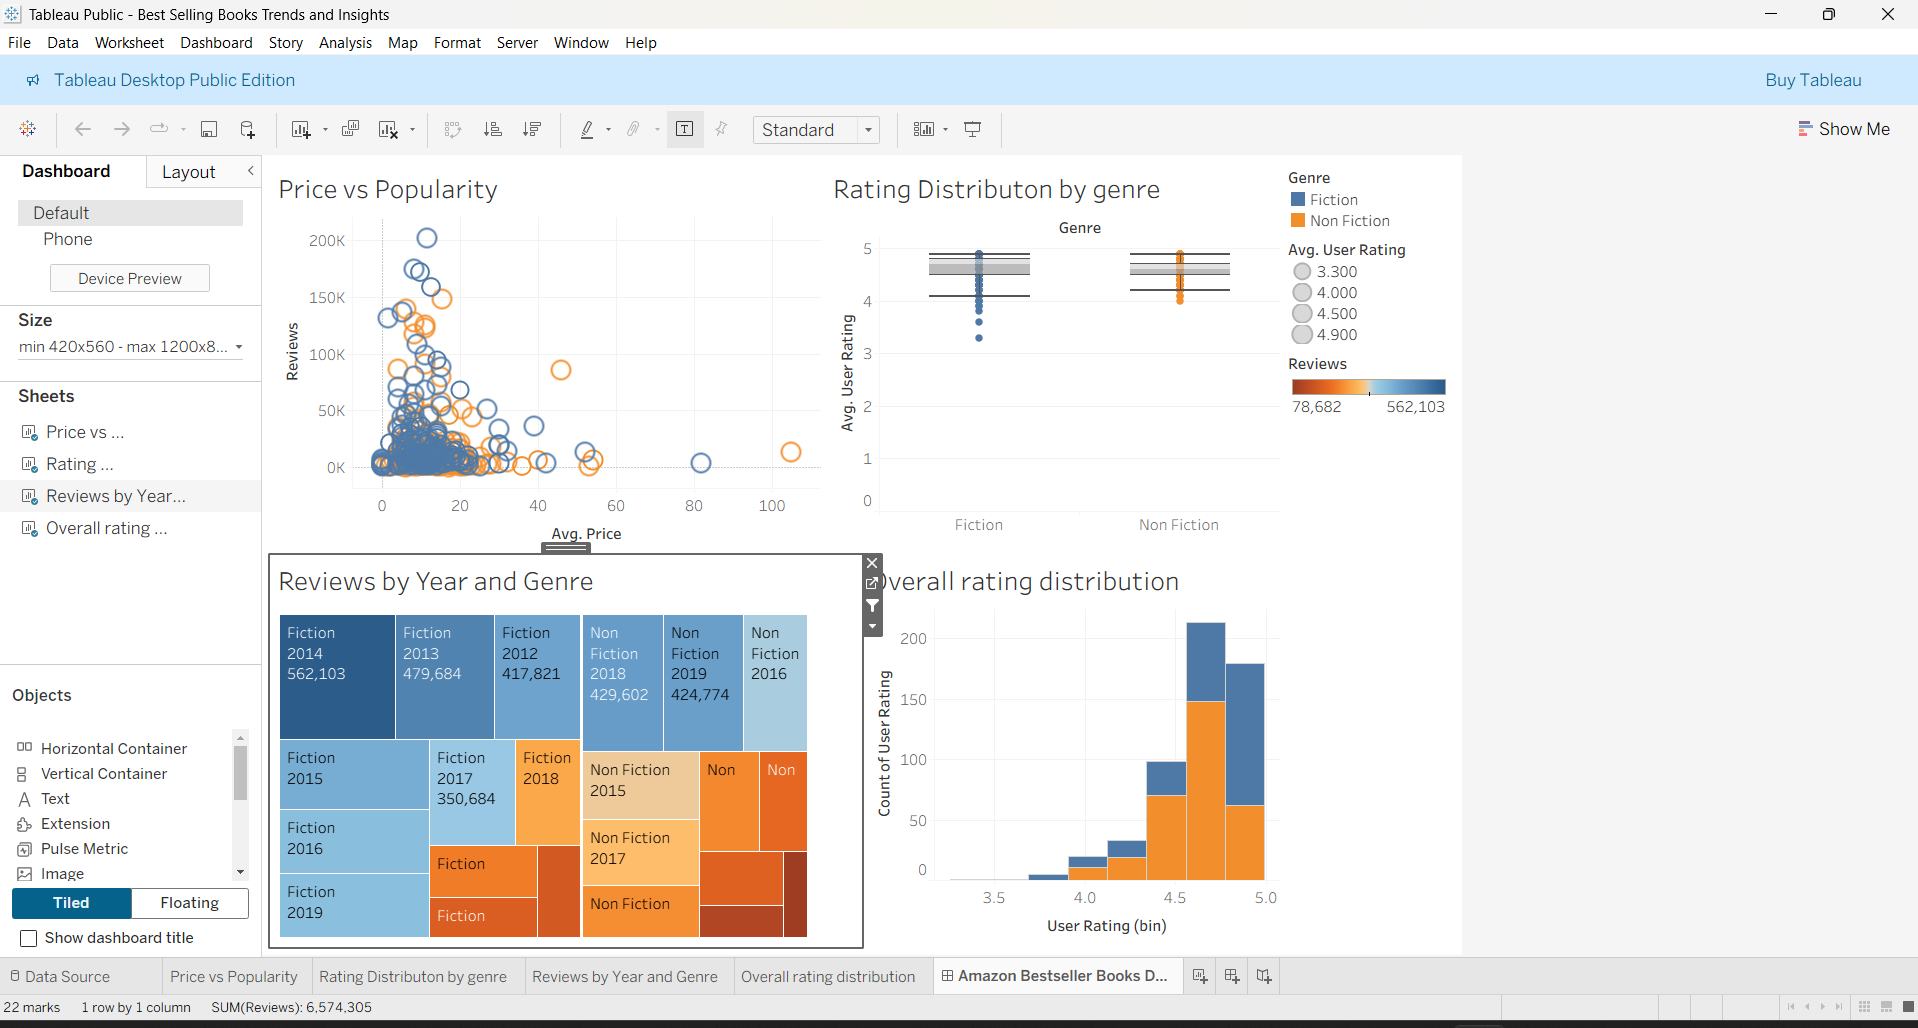

What the dashboard file says about the page in this screenshot:
{"tool":"tableau","page":{"name":"Amazon Bestseller Books Dashboard","canvas":[1000,1000],"units":"permille","ordinal":0},"visuals":[{"type":"worksheet","title":"Price vs Popularity","mark":"Automatic","rows":["Reviews"],"cols":["Price"],"box":[6.7,10,462.4,490]},{"type":"worksheet","title":"Rating Distributon by genre","mark":"Circle","rows":["User Rating"],"cols":["Genre"],"box":[469.1,10,382.6,490]},{"type":"legend","title":"Price vs Popularity","param":"[federated.00ok3mf1cc5kxm0zwez7d0icde6x].[none:Genre:nk]","box":[851.7,10,141.7,90]},{"type":"legend","title":"Price vs Popularity","param":"[federated.00ok3mf1cc5kxm0zwez7d0icde6x].[avg:User Rating:qk]","box":[851.7,100,141.7,142.5]},{"type":"legend","title":"Reviews by Year and Genre","param":"[federated.00ok3mf1cc5kxm0zwez7d0icde6x].[sum:Reviews:qk]","box":[851.7,242.5,141.7,91.2]},{"type":"worksheet","title":"Reviews by Year and Genre","mark":"Automatic","box":[6.7,500,493.3,490]},{"type":"worksheet","title":"Overall rating distribution","mark":"Automatic","rows":["User Rating"],"cols":["User Rating (bin)"],"box":[499.9,500,351.7,490]}]}

Visuals, with their boxes on the dashboard's canvas, which has no fixed pixel size, in thousandths of its width and height (x1, y1, x2, y2). These are canvas units, not pixel positions in the 1918x1028 screenshot, which may show the page scaled, cropped or inside an application window:
"Price vs Popularity" worksheet: <box>7,10,469,500</box>
"Rating Distributon by genre" worksheet (Circle marks): <box>469,10,852,500</box>
"Price vs Popularity" legend: <box>852,10,993,100</box>
"Price vs Popularity" legend: <box>852,100,993,242</box>
"Reviews by Year and Genre" legend: <box>852,242,993,334</box>
"Reviews by Year and Genre" worksheet: <box>7,500,500,990</box>
"Overall rating distribution" worksheet: <box>500,500,852,990</box>
